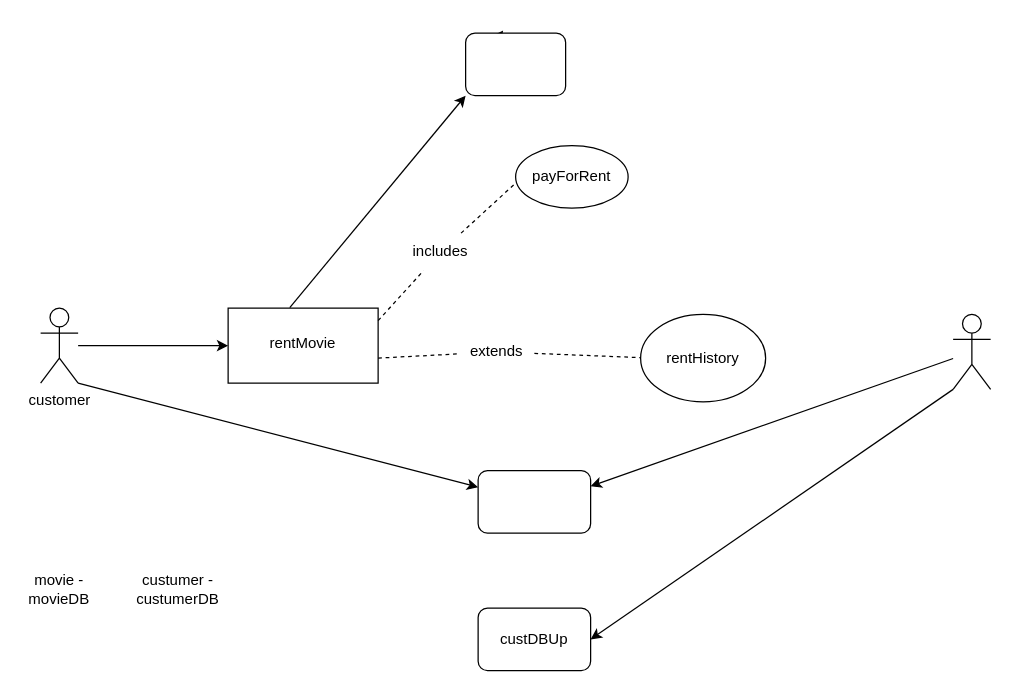
The diagram is 1014 pixels wide and 693 high, and some of its shapes have lost their labels. The box of each missing label's shape, as (x1, y1, x2, y2) in pixels:
addCustomer: (477, 469, 591, 533)
owner: (952, 313, 991, 389)
trends: (464, 32, 566, 96)
